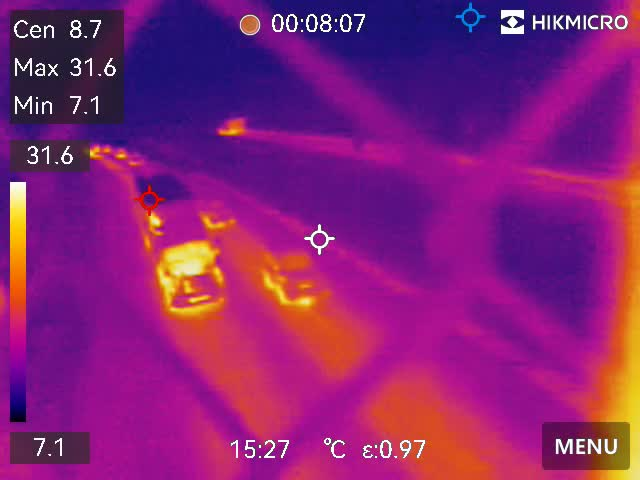heavyTruck: (131, 172, 232, 322)
